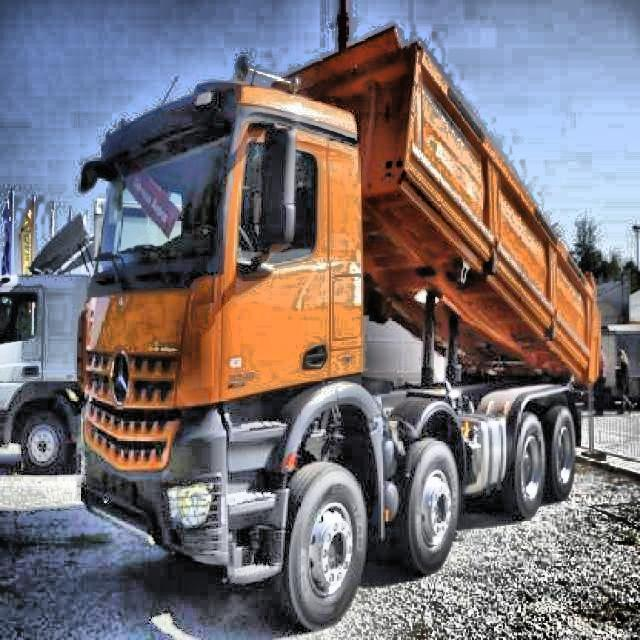dump_truck: (74, 4, 600, 640)
